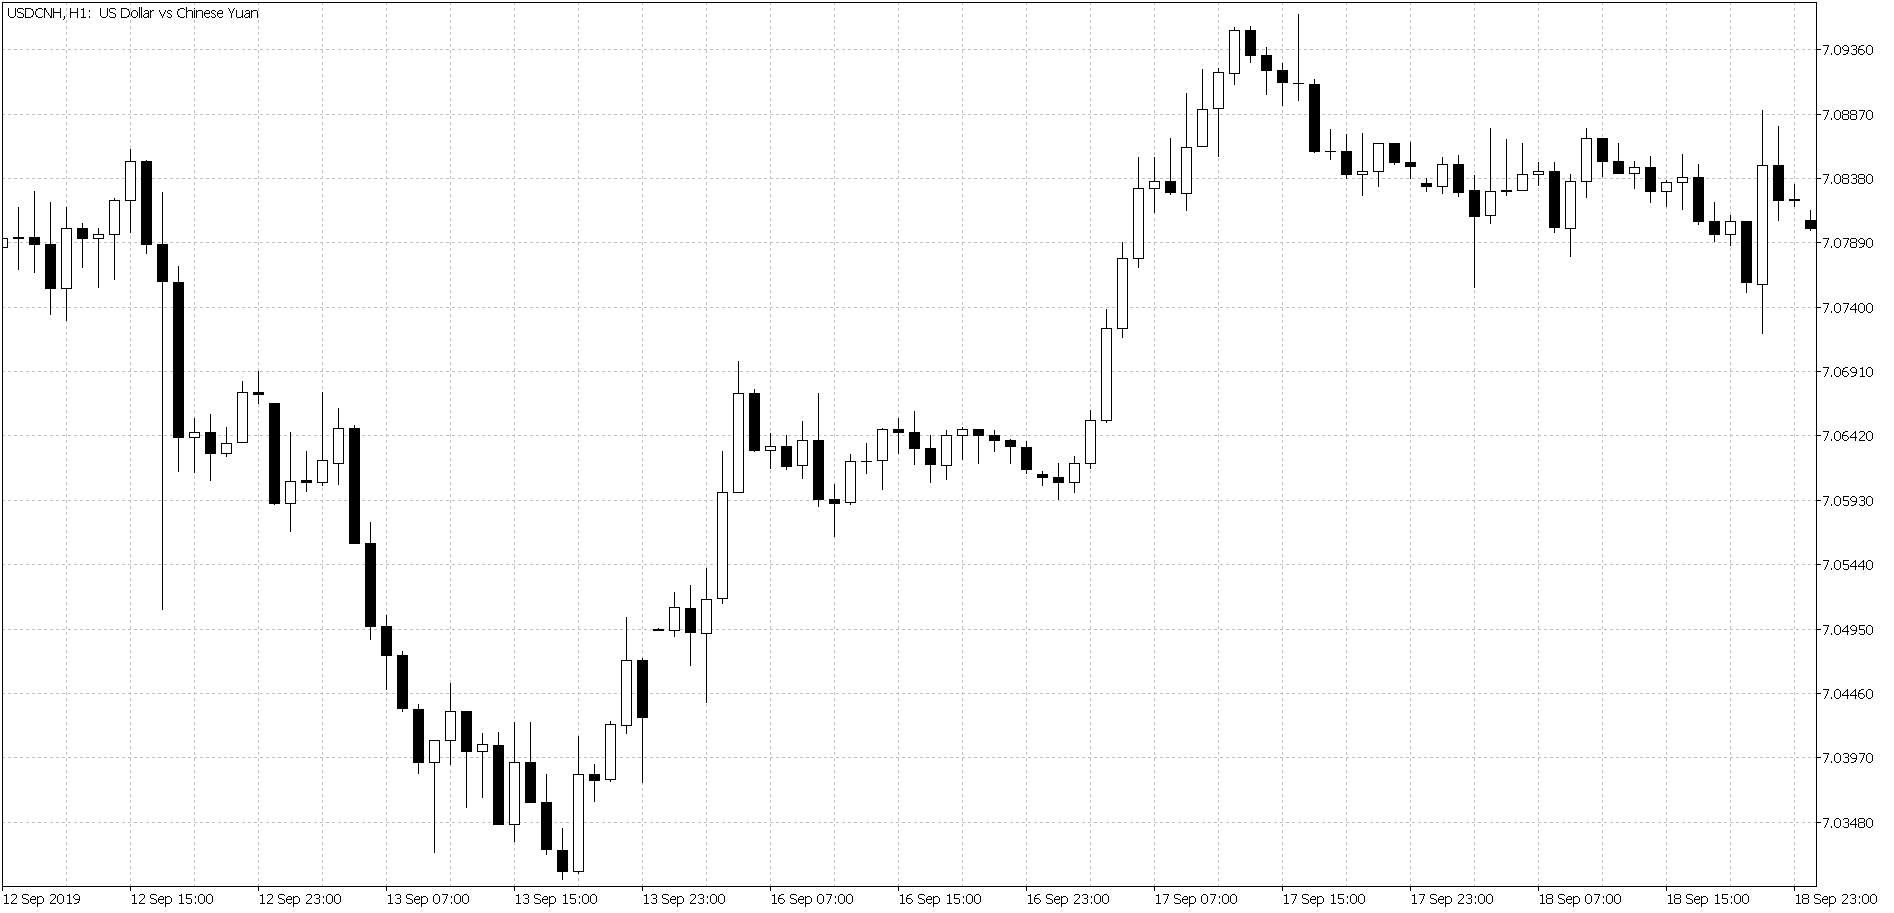3blackcrows: (347, 418, 395, 696), (1242, 24, 1290, 114)
3whitesoldiers: (1068, 306, 1114, 514)
bullishEngulfing: (556, 737, 588, 882)
hammer: (428, 732, 445, 857)
morningStar: (811, 377, 861, 559)
